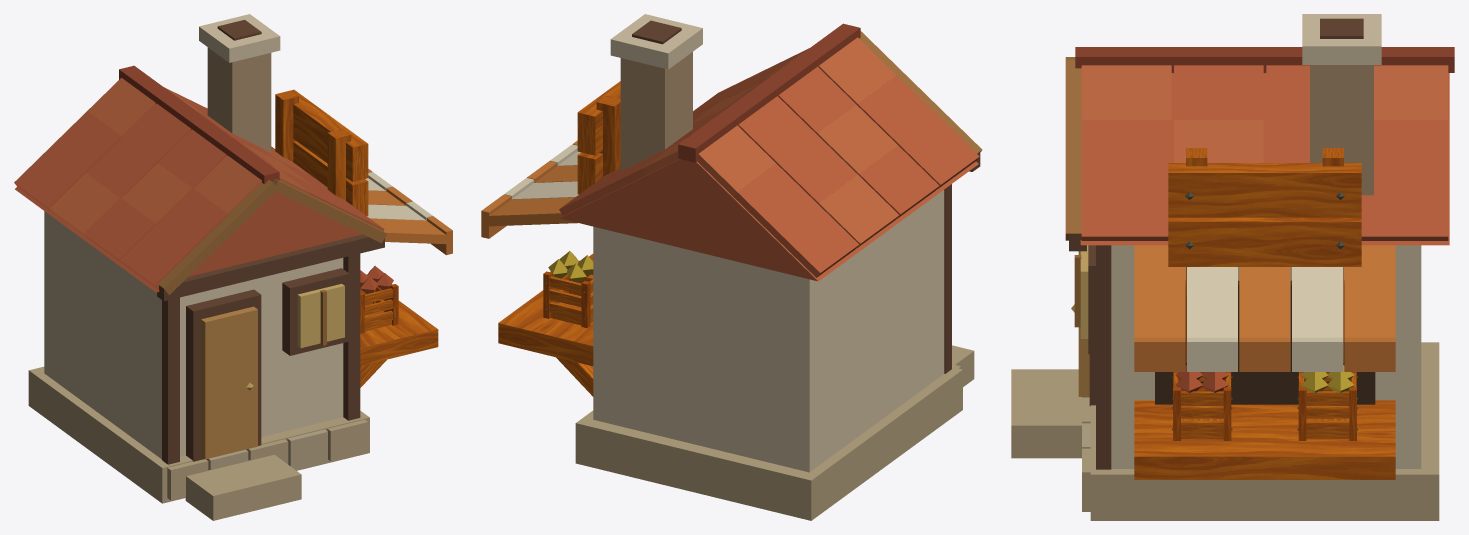
The model's file is shop.gltf.
3 views of the same model, side by side, from view 1: azimuth 30°, elevation 25°; view 2: azimuth 150°, elevation 25°; view 3: azimuth 270°, elevation 25° (orthographic). The views are drawn at different scales.
Parts seen in each view (by area): view 1: shop; view 2: shop; view 3: shop.
Boxes of the visible parts, <box> form: shop: <box>14,14,452,520</box>; shop: <box>481,14,982,520</box>; shop: <box>1011,14,1454,520</box>.
Bounding box in the file's own units: 1.87 × 2.03 × 1.73.
Materials: 2 (1 with a texture image).
